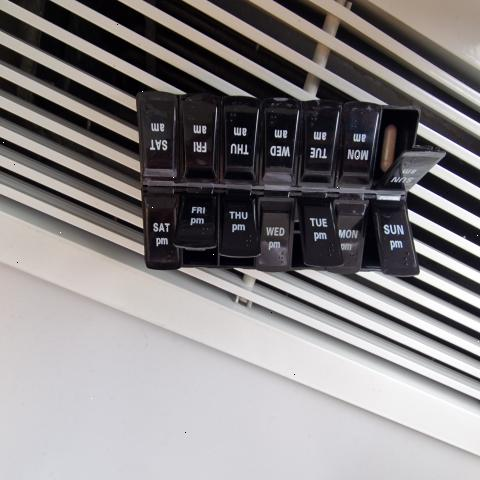Open: (370, 109, 445, 186), (291, 200, 343, 274), (361, 206, 417, 274), (177, 245, 217, 264), (219, 255, 256, 267)
